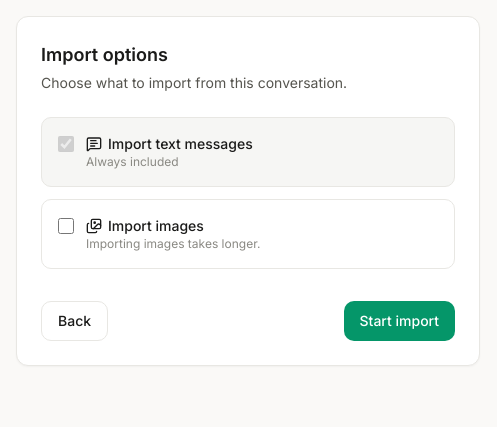
Test case: ImportConfigStage — Import Options (FR-018) › shows an error and stays put when the start request fails
The width and height of the screenshot is (497, 427).
Click the button "Start import": x=399, y=321 [344,301,455,341]
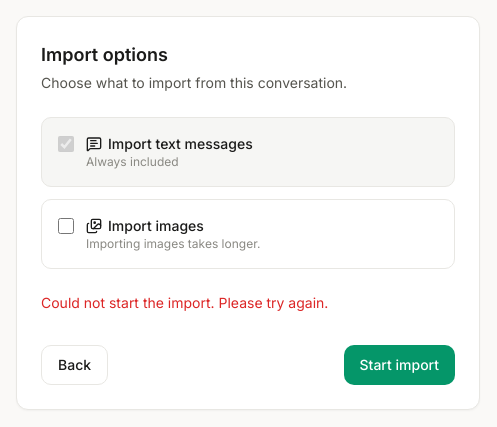
Now the text "Could not start the import. Please try again." is shown, box [41,294,328,311]
